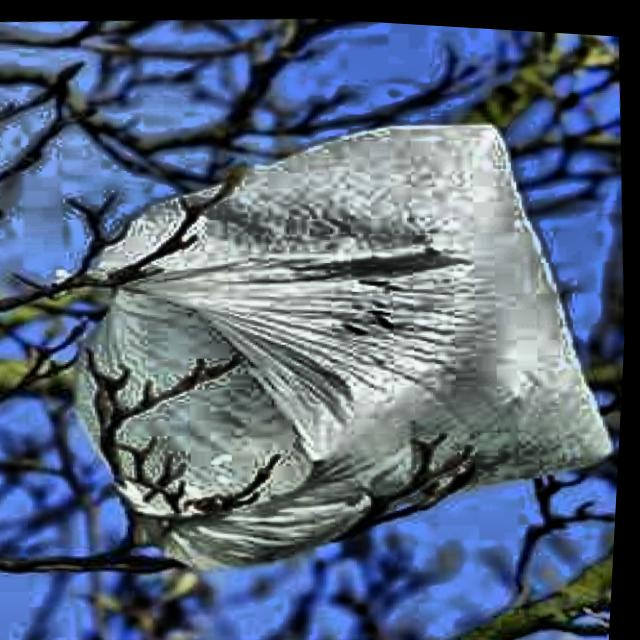Plastic: (19, 72, 637, 618)
